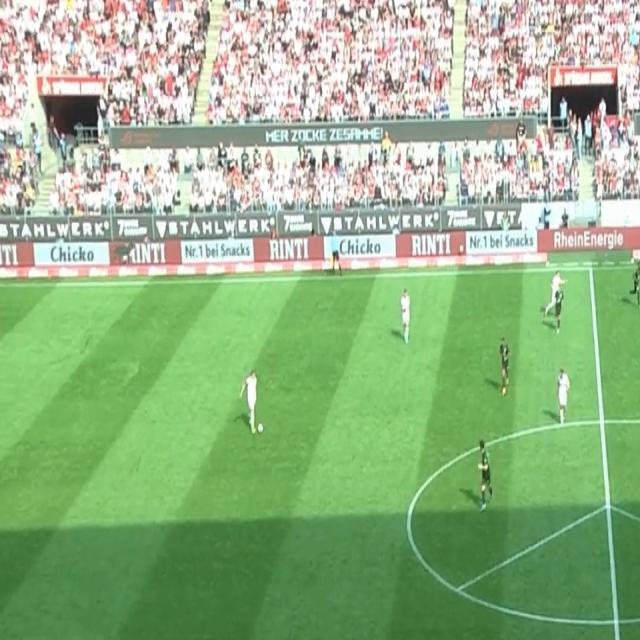ball: (257, 422, 264, 434)
